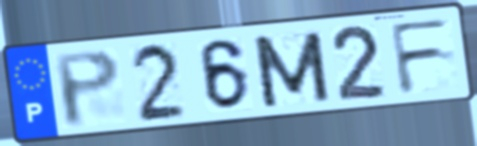2: (329, 23, 391, 104), (130, 40, 188, 124)
6: (197, 38, 253, 114)
F: (386, 15, 455, 98)
M: (248, 28, 334, 111)
P: (50, 47, 124, 130)
